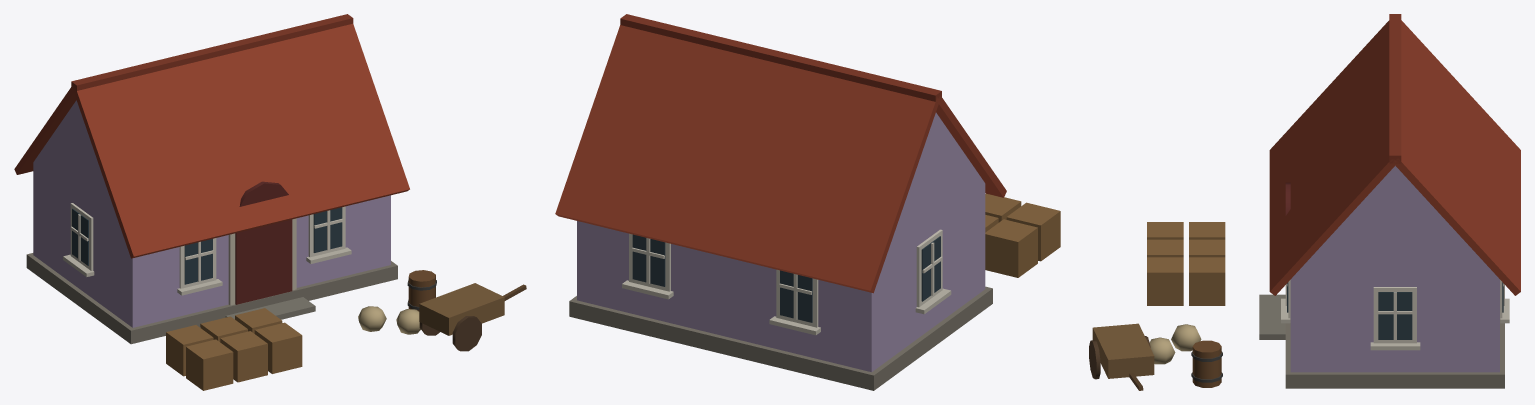
The model's file is procedural_trade_yard@4.glb.
The picture shows the model from 3 angles, left to right: view 1: azimuth 30°, elevation 25°; view 2: azimuth 150°, elevation 25°; view 3: azimuth 270°, elevation 25°; orthographic projection. The views are drawn at different scales.
Visible parts, largest first — view 1: part_0; view 2: part_0; view 3: part_0.
Boxes of the visible parts, x1,y1,x2,y2 form: part_0: [14, 14, 526, 390]; part_0: [555, 14, 1060, 390]; part_0: [1089, 14, 1520, 390].
Bounding box in the file's own units: 7.68 × 4.97 × 8.26.
